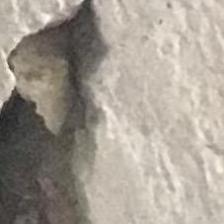Crack: (0, 0, 148, 224)
